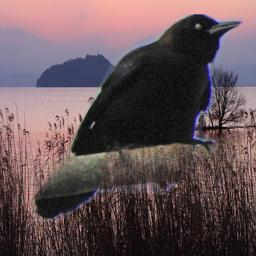Crow: (33, 14, 243, 221)
